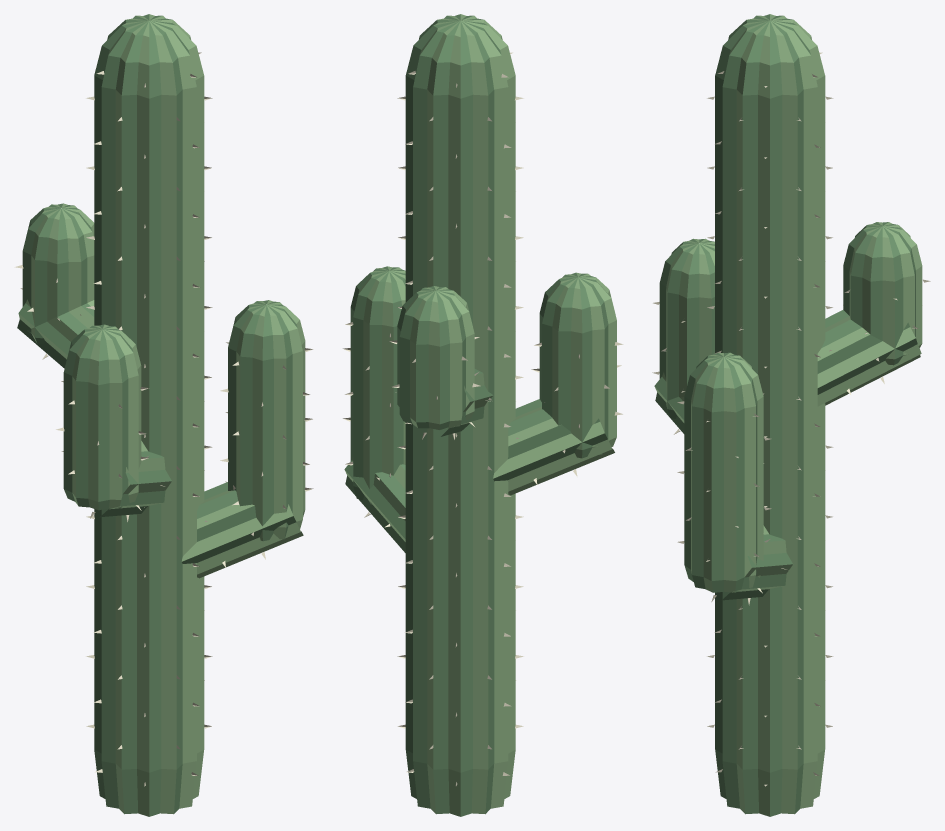
Rendered from cactus-saguaro-c.glb.
The picture shows the model from 3 angles, left to right: view 1: azimuth 30°, elevation 25°; view 2: azimuth 150°, elevation 25°; view 3: azimuth 270°, elevation 25°; orthographic projection.
Visible parts, largest first — view 1: cactus-saguaro-c; view 2: cactus-saguaro-c; view 3: cactus-saguaro-c.
Part boxes in pixels (left/top/right/bottom): cactus-saguaro-c: left=14, top=14, right=313, bottom=816; cactus-saguaro-c: left=342, top=14, right=623, bottom=816; cactus-saguaro-c: left=652, top=14, right=930, bottom=816.
Bounding box in the file's own units: 0.968 × 2.8 × 0.9128.
